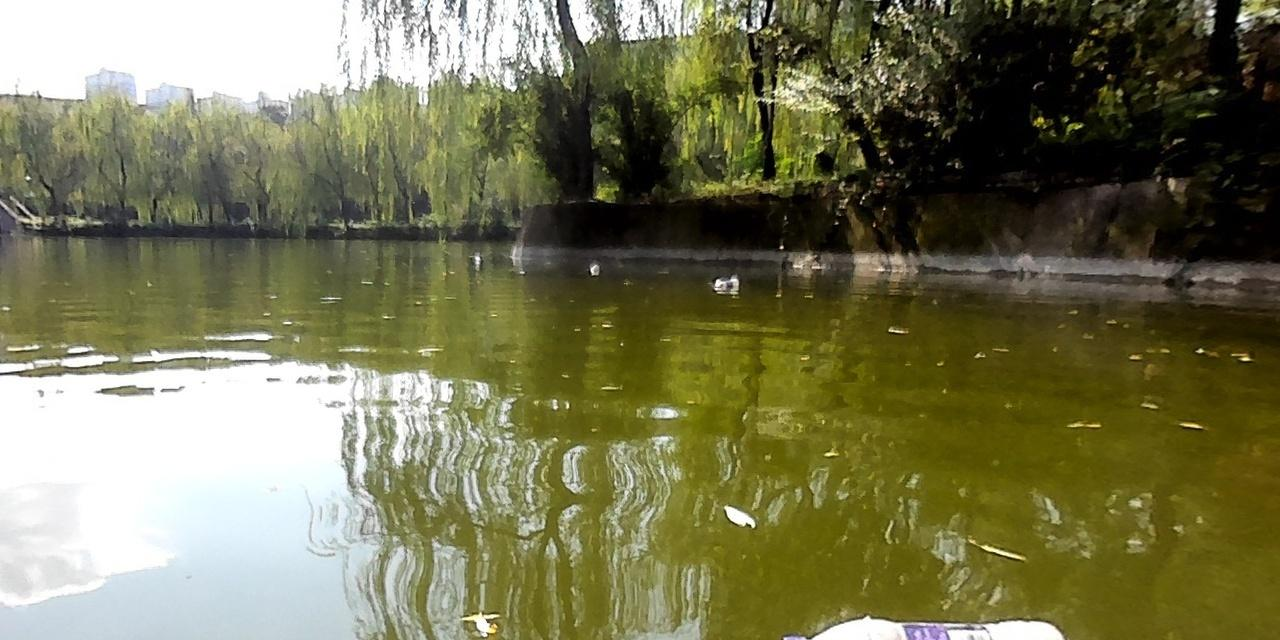bottle: (710, 274, 740, 293), (586, 260, 602, 274)
